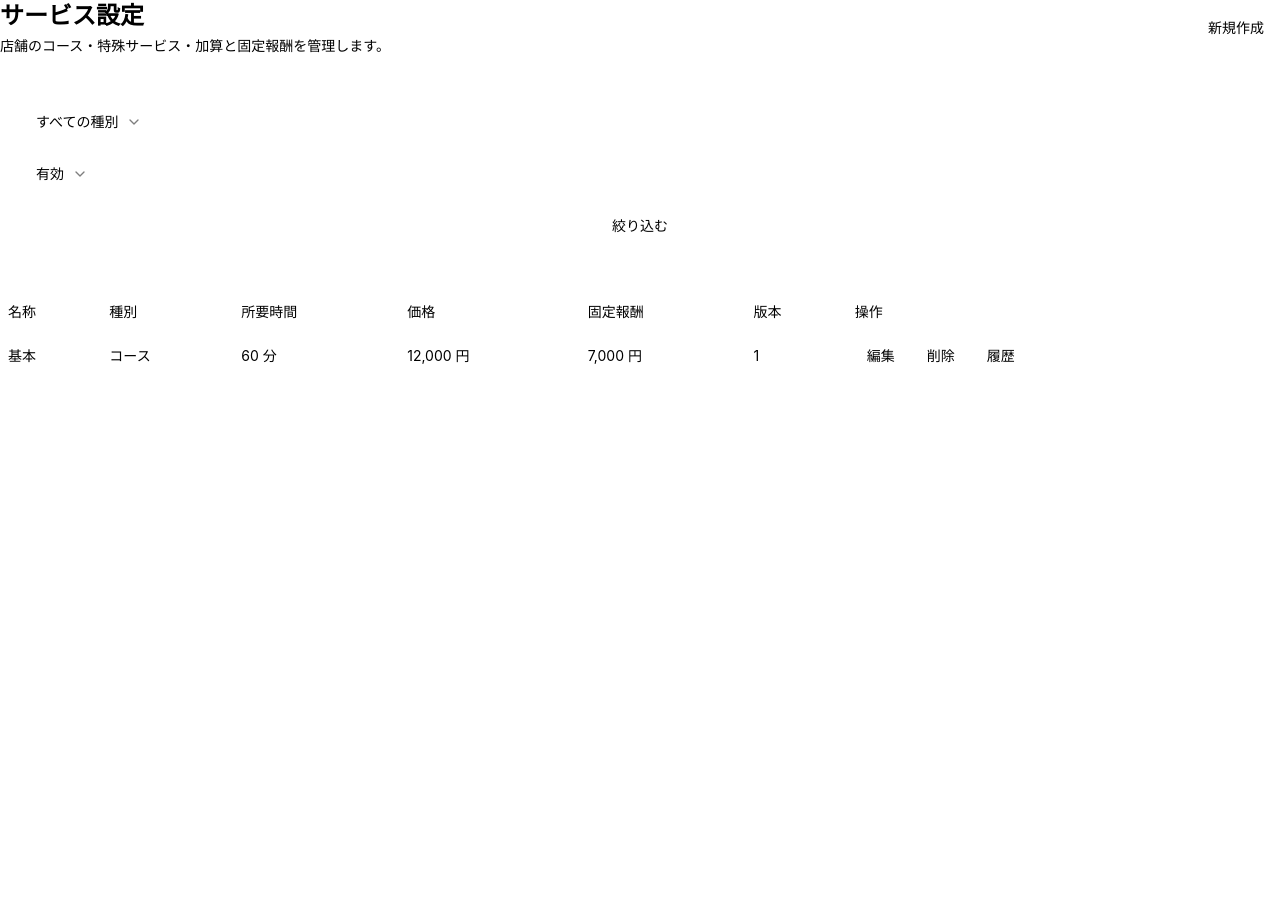
変更履歴をページ番号で送り、次のページを取り直す
The image size is (1280, 900).
Click the button "履歴" at point(1001, 356), box [975,340,1027,372]
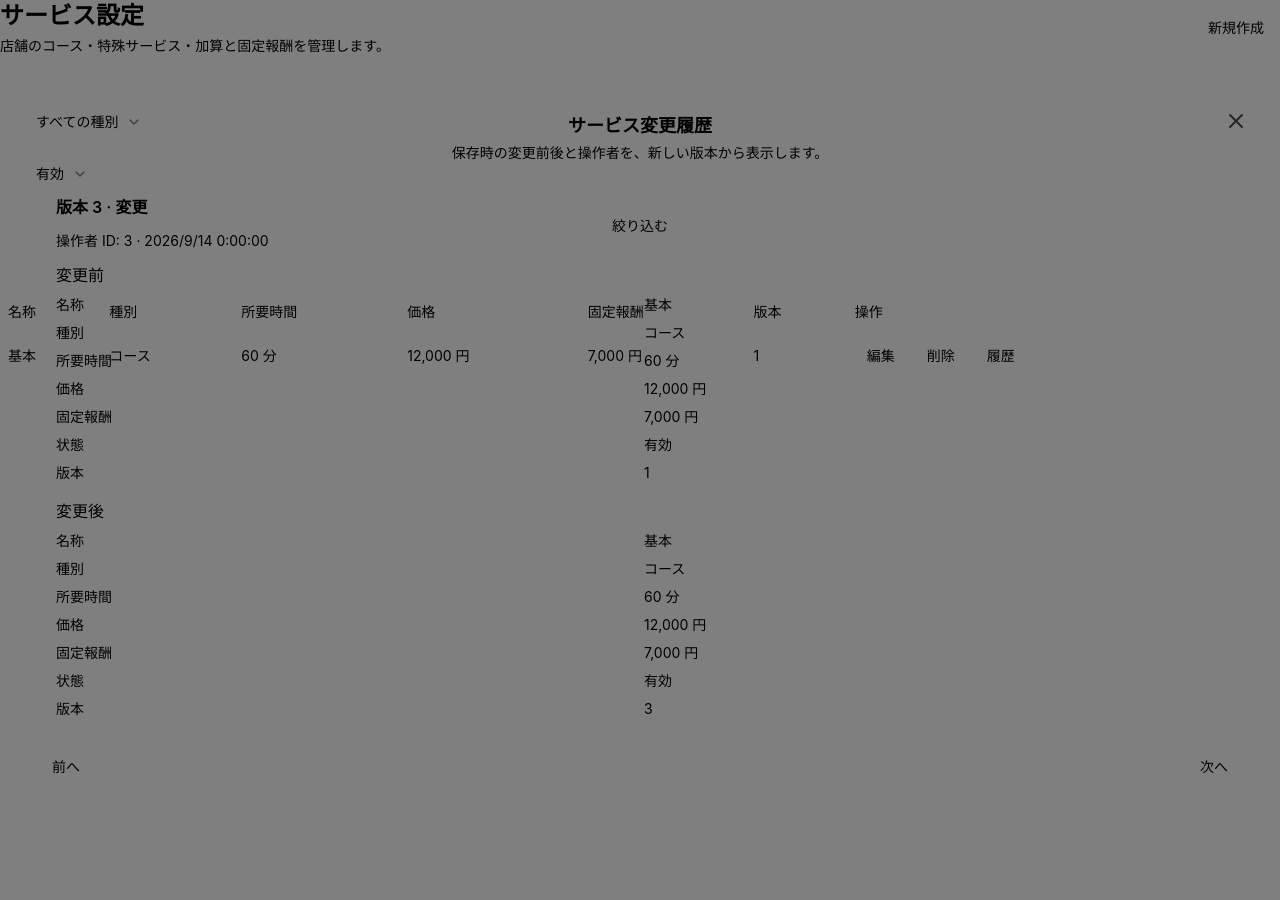
expect the heading "版本 3 · 変更" is shown: met, box [56,197,147,217]
Click the button "次へ" at point(1214, 767), box [1188,751,1240,783]
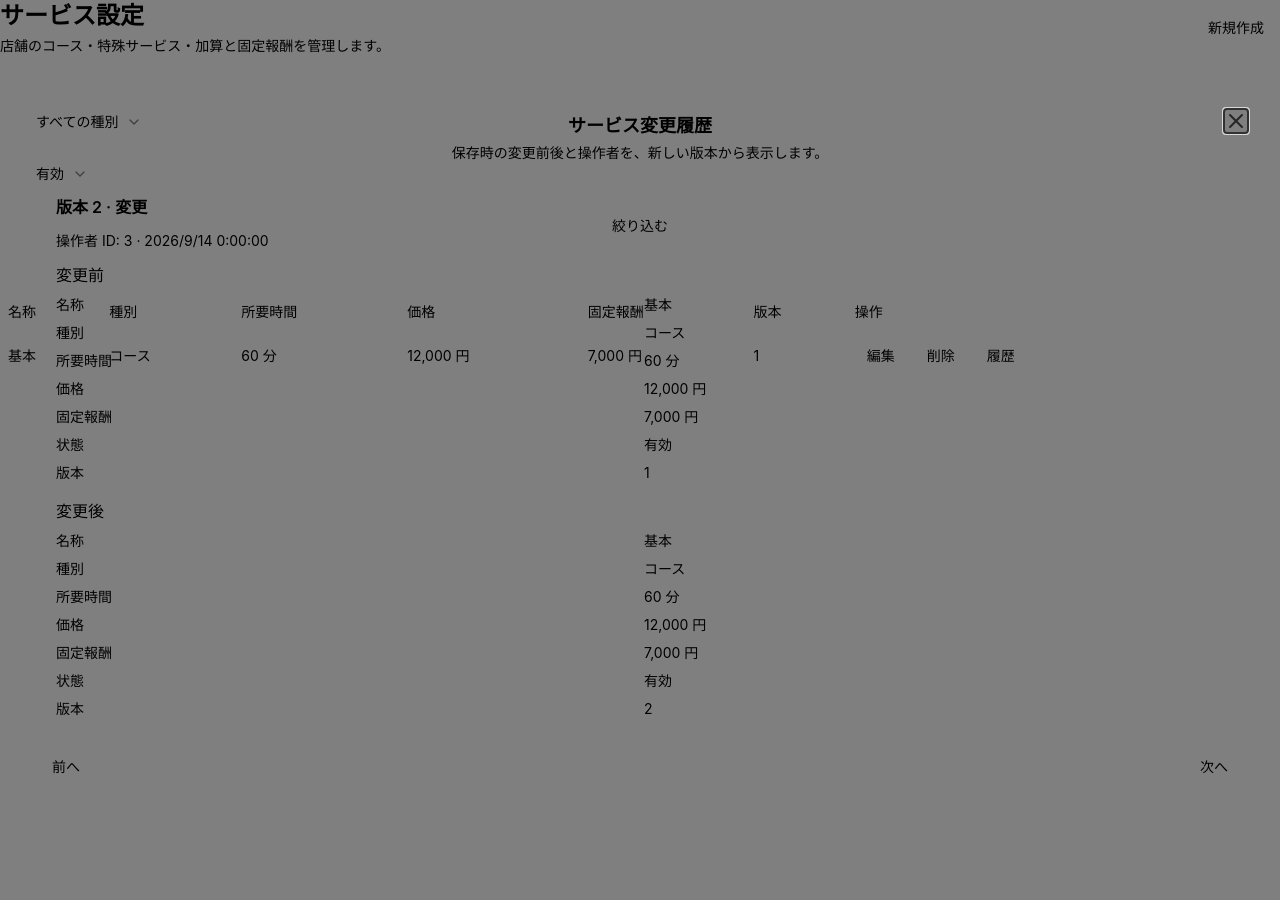
expect the heading "版本 2 · 変更" is shown: met, box [56,197,147,217]
expect the heading "版本 3 · 変更" is gone: met
